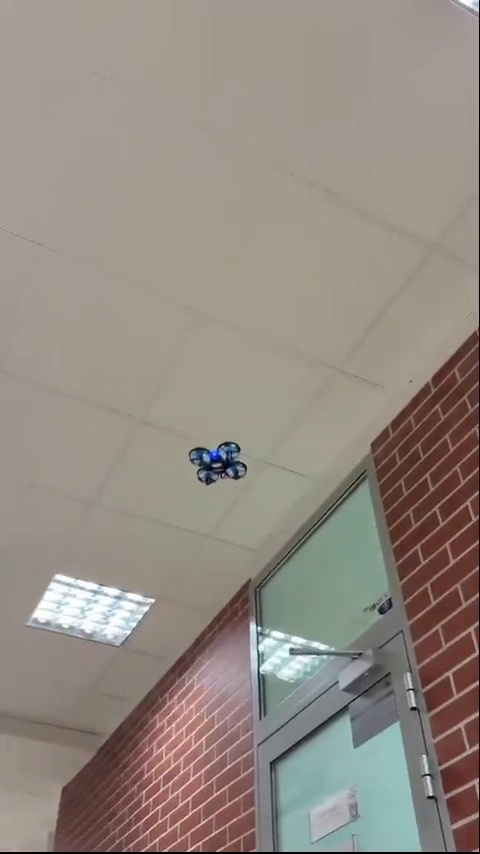drone: (188, 440, 245, 488)
